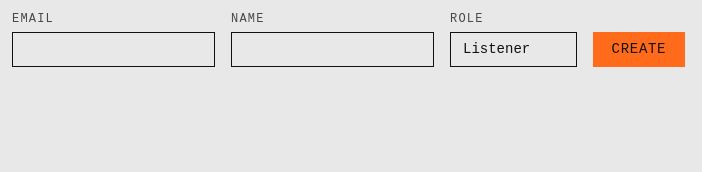
Scenario: NewUserForm › shows the error and keeps the fields on failure
Type "dup@example.com" into the field labelled "Email".
click(114, 49); type("dup@example.com")  # box [12,32,215,67]
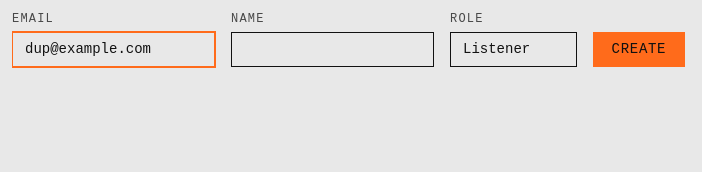
Click the button "Create".
click(639, 49)  # box [593,32,685,67]
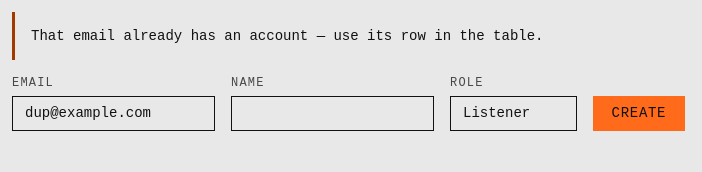
Check: the message shows "already has an account", box [31,28,544,44]
